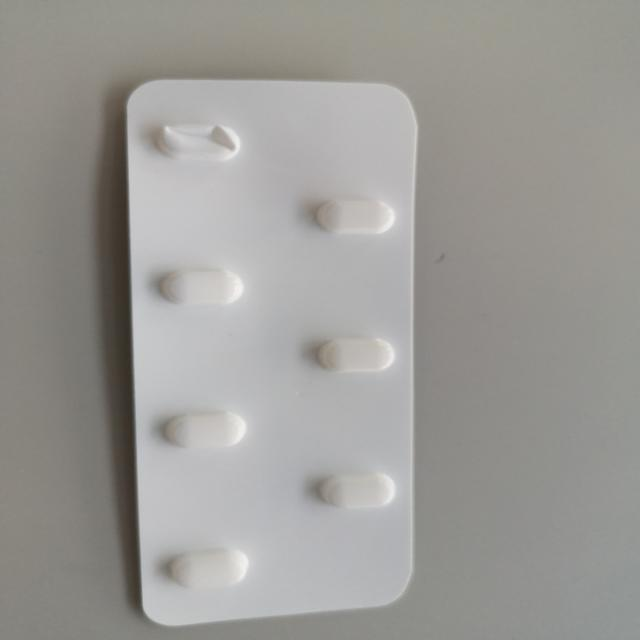Empty: (152, 116, 245, 166)
Pill: (158, 544, 255, 593), (156, 406, 253, 453), (153, 264, 247, 309), (308, 332, 399, 378), (308, 468, 400, 512), (309, 194, 396, 239)
